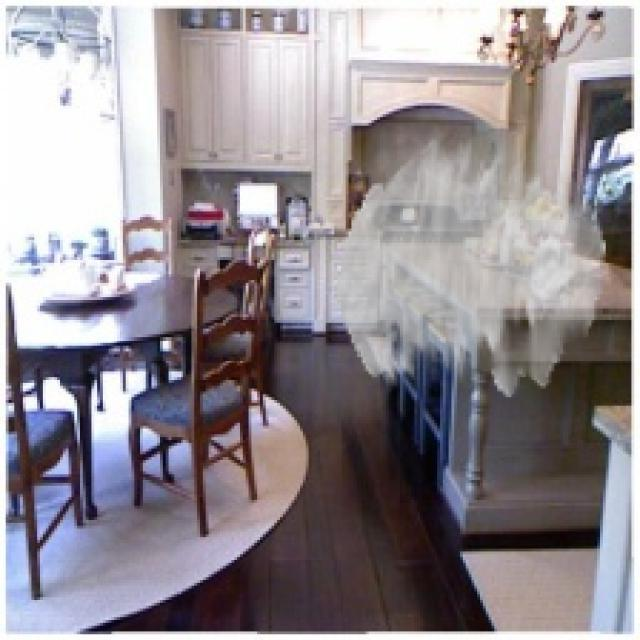Smoke: (337, 134, 606, 397)
